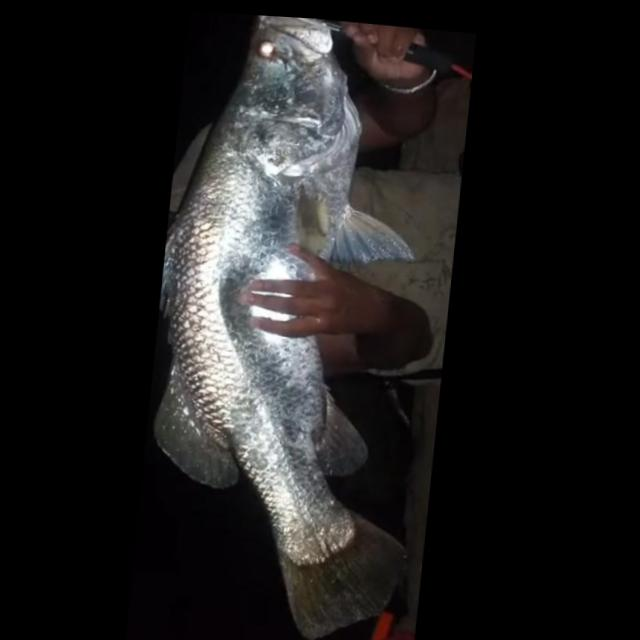Seabass: (123, 10, 461, 640)
